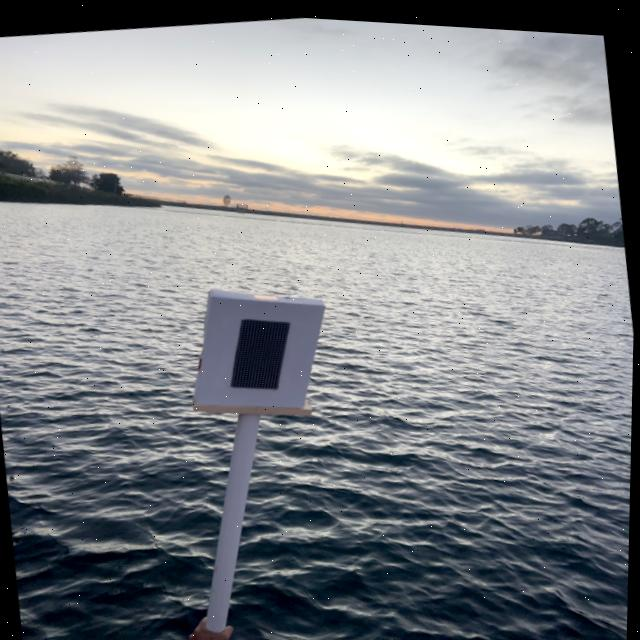led: (212, 289, 315, 411)
